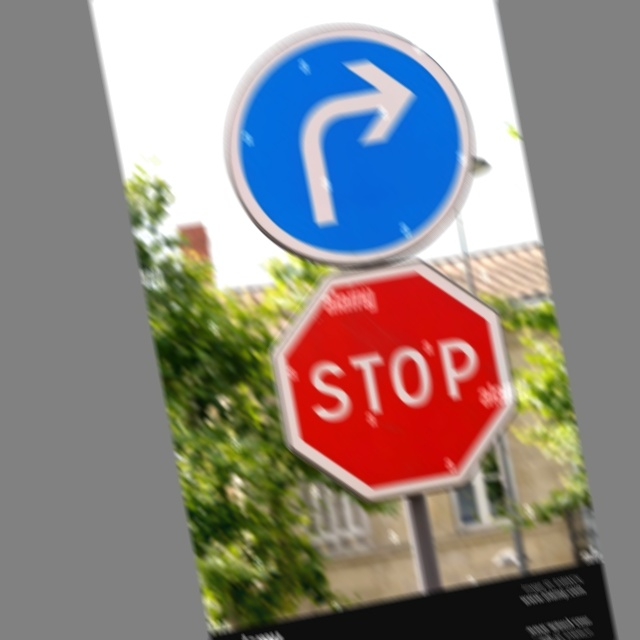Compulsory_Turn_Right_Ahead: (206, 6, 496, 283)
